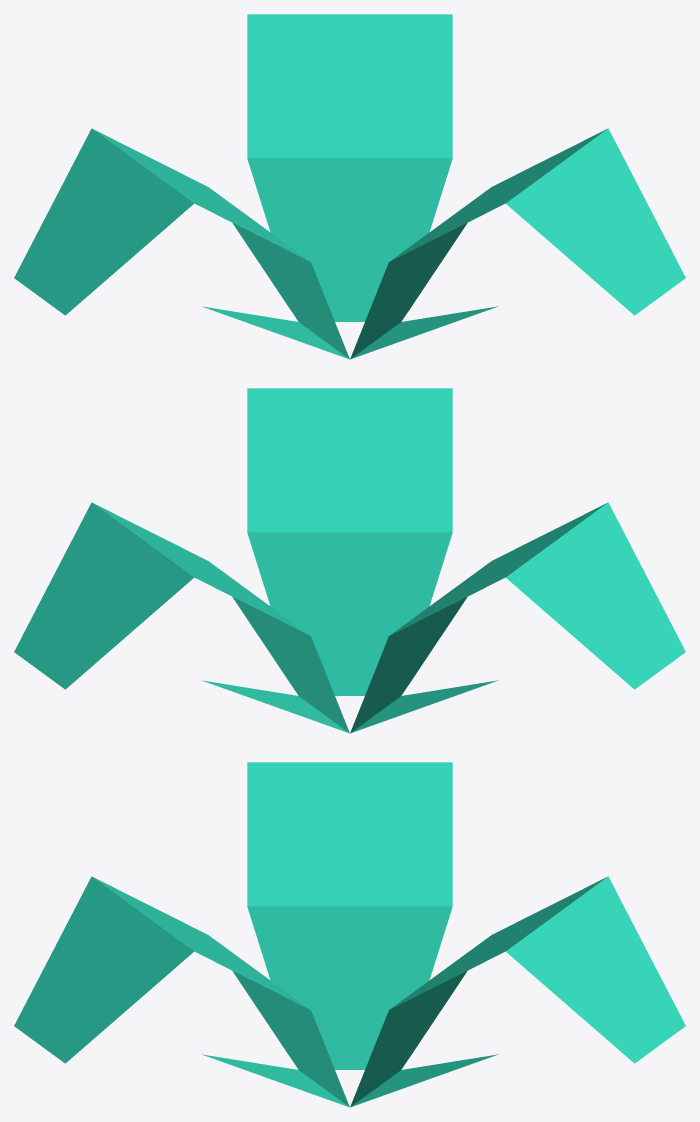
Rendered from plant-bush-large-triangle.glb.
3 renders of one model, top to bottom at view 1: azimuth 30°, elevation 25°; view 2: azimuth 150°, elevation 25°; view 3: azimuth 270°, elevation 25°, orthographic.
Parts seen in each view (by area): view 1: plant_bushLargeTriangle; view 2: plant_bushLargeTriangle; view 3: plant_bushLargeTriangle.
Boxes of the visible parts, x1,y1,x2,y2 form: plant_bushLargeTriangle: (14,14,685,359); plant_bushLargeTriangle: (14,388,685,733); plant_bushLargeTriangle: (14,762,685,1107).
Bounding box in the file's own units: 0.4077 × 0.1693 × 0.4708.
